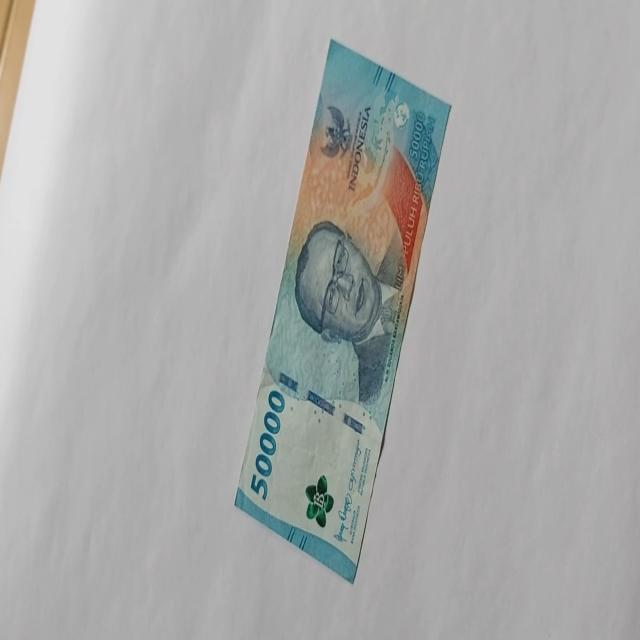lima puluh ribu rupiah: (233, 36, 452, 584), (292, 217, 406, 406)
